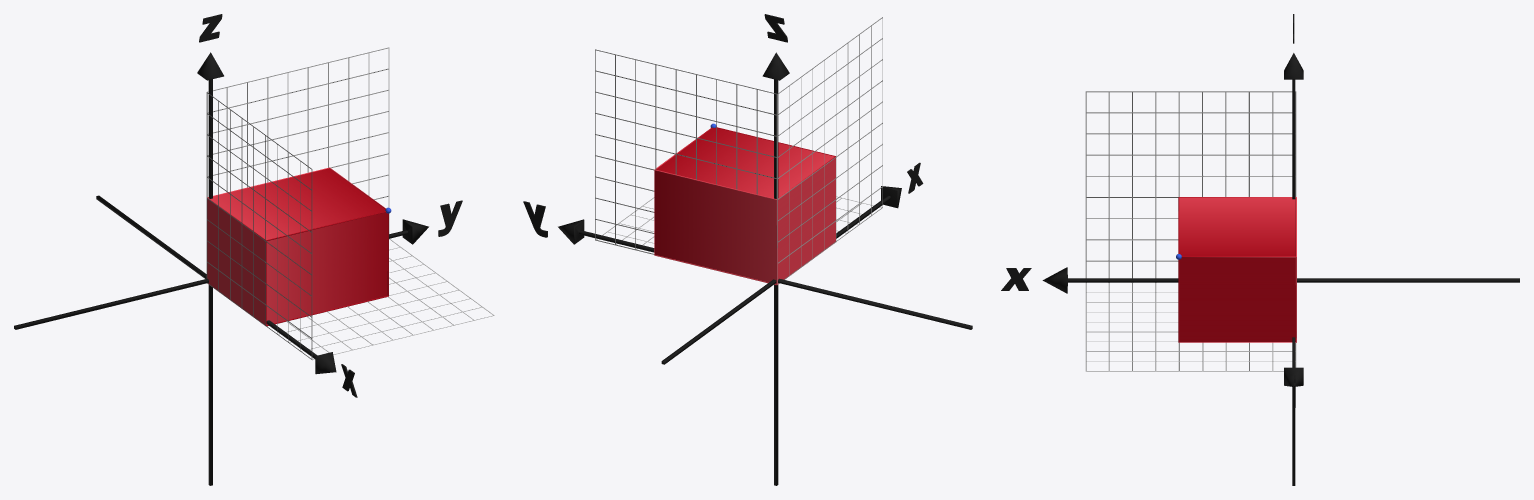
3 views of the same model, side by side, from view 1: azimuth 30°, elevation 25°; view 2: azimuth 150°, elevation 25°; view 3: azimuth 270°, elevation 25° (orthographic).
Parts seen in each view (by area): view 1: Box_Red, CartesianCoordinateSystem, Axis, WireframeBox_Red; view 2: Box_Red, CartesianCoordinateSystem, Axis, WireframeBox_Red; view 3: Box_Red, CartesianCoordinateSystem, Axis, WireframeBox_Red.
Boxes of the visible parts, x1=… form: Box_Red: x1=207, y1=168, x2=387, y2=324; CartesianCoordinateSystem: x1=206, y1=47, x2=494, y2=360; Axis: x1=14, y1=14, x2=462, y2=485; WireframeBox_Red: x1=207, y1=167, x2=391, y2=326; Box_Red: x1=655, y1=127, x2=835, y2=284; CartesianCoordinateSystem: x1=595, y1=17, x2=882, y2=284; Axis: x1=523, y1=14, x2=972, y2=485; WireframeBox_Red: x1=654, y1=123, x2=835, y2=285; Box_Red: x1=1179, y1=197, x2=1295, y2=341; CartesianCoordinateSystem: x1=1085, y1=91, x2=1296, y2=371; Axis: x1=1001, y1=14, x2=1519, y2=485; WireframeBox_Red: x1=1176, y1=197, x2=1296, y2=342.
Size of the model in its own units: 229 by 228 by 229.
